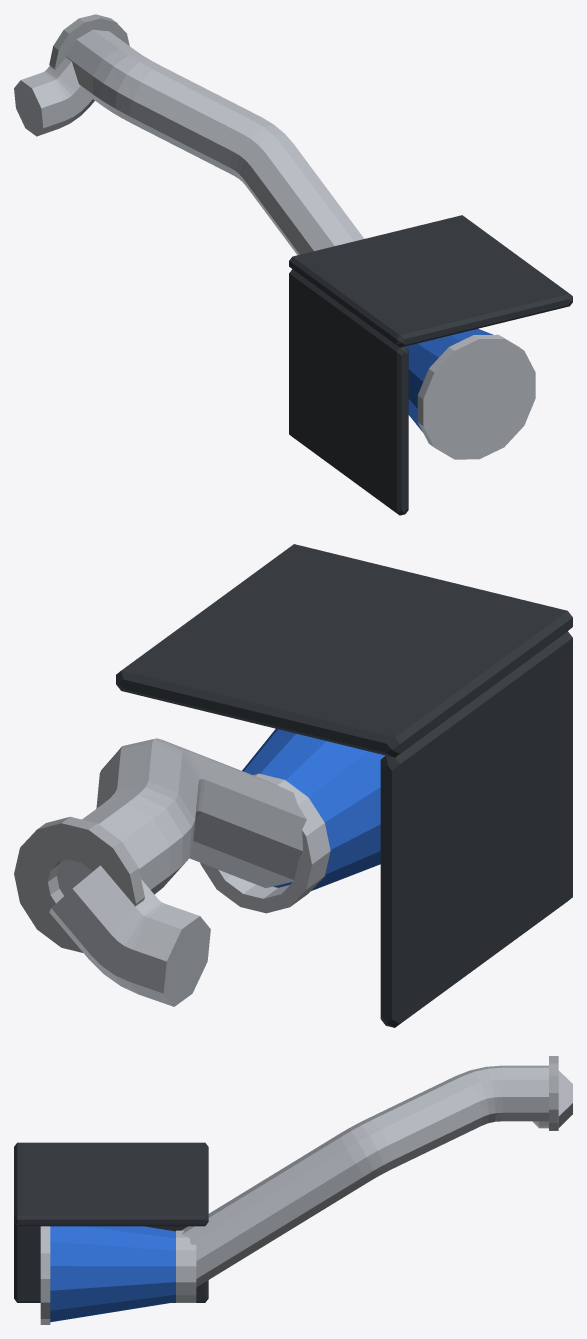
File: brute_500.glb
3 renders of one model, top to bottom at view 1: azimuth 30°, elevation 25°; view 2: azimuth 150°, elevation 25°; view 3: azimuth 270°, elevation 25°, orthographic. The views are drawn at different scales.
Parts seen in each view (by area): view 1: model; view 2: model; view 3: model.
Part boxes in pixels (x1=…): model: x1=14, y1=14, x2=572, y2=515; model: x1=14, y1=544, x2=572, y2=1027; model: x1=14, y1=1056, x2=572, y2=1324.
Size of the model in its own units: 0.3029 by 0.326 by 0.6896.
2 materials, 1 textured.
